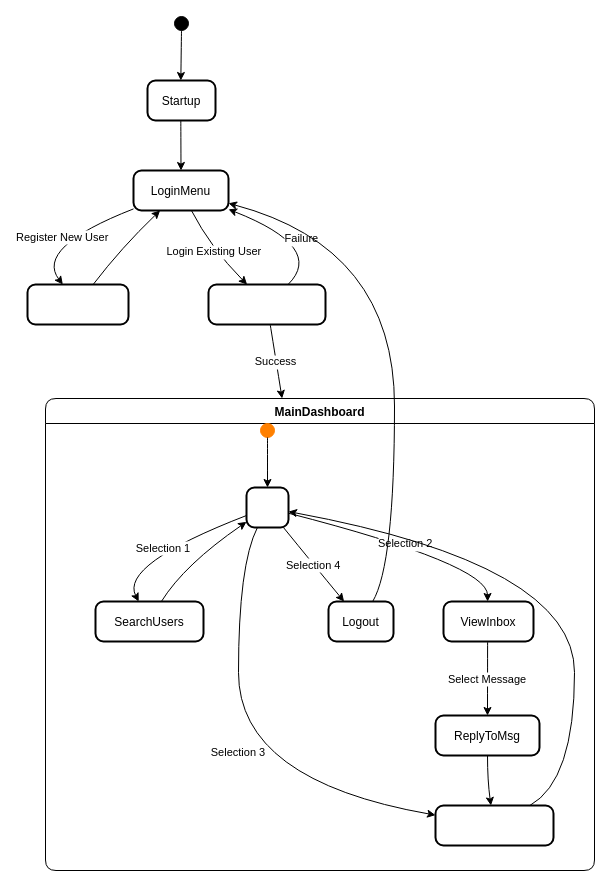
This 611x887 diagram has some shape labels left out. Here are the shapes that lost their labels. From the top down, the box of each, then its label:
(26, 283, 129, 325): Registration
(207, 283, 326, 325): Authentication
(245, 486, 289, 528): Idle
(434, 804, 554, 846): SendMessage
